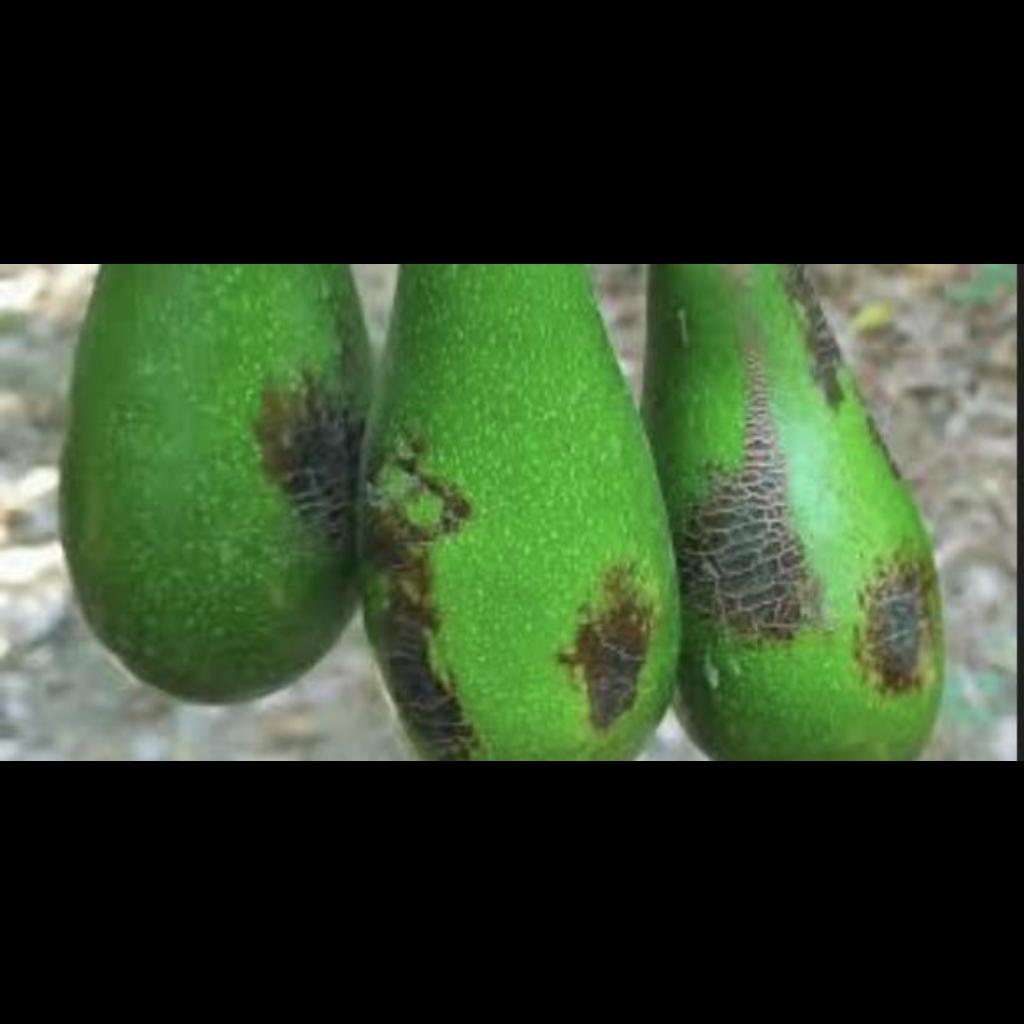cercospora_spot: (366, 270, 678, 758), (651, 265, 951, 761), (37, 276, 379, 708)
